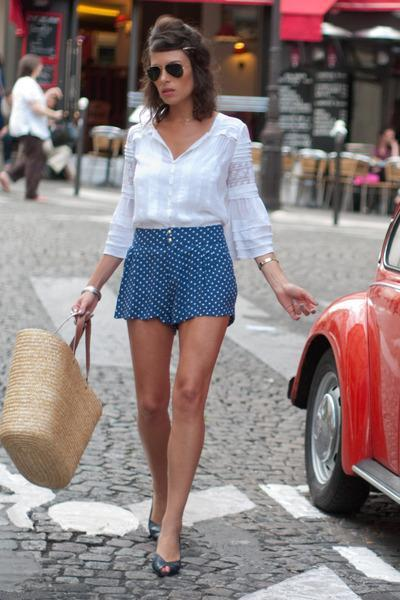bag: (0, 328, 105, 491)
shirt: (94, 113, 275, 263)
shoe: (156, 560, 190, 578)
shorts: (114, 224, 236, 563)
sunglass: (147, 62, 182, 98)
